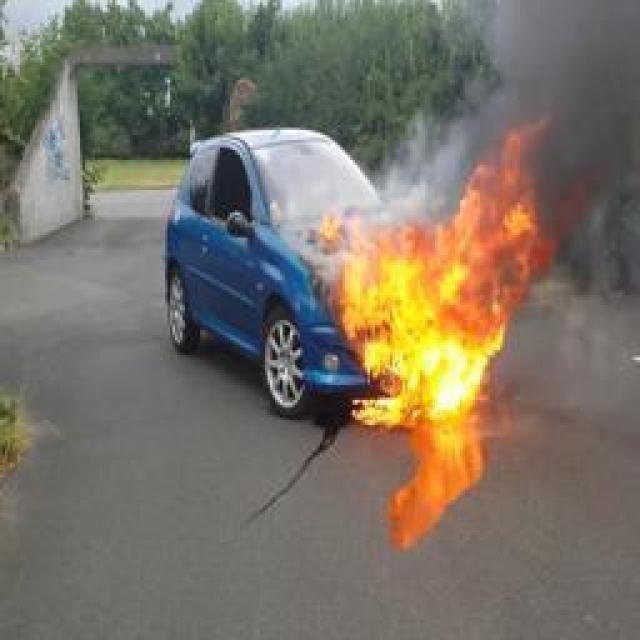Fire: (322, 121, 560, 429)
